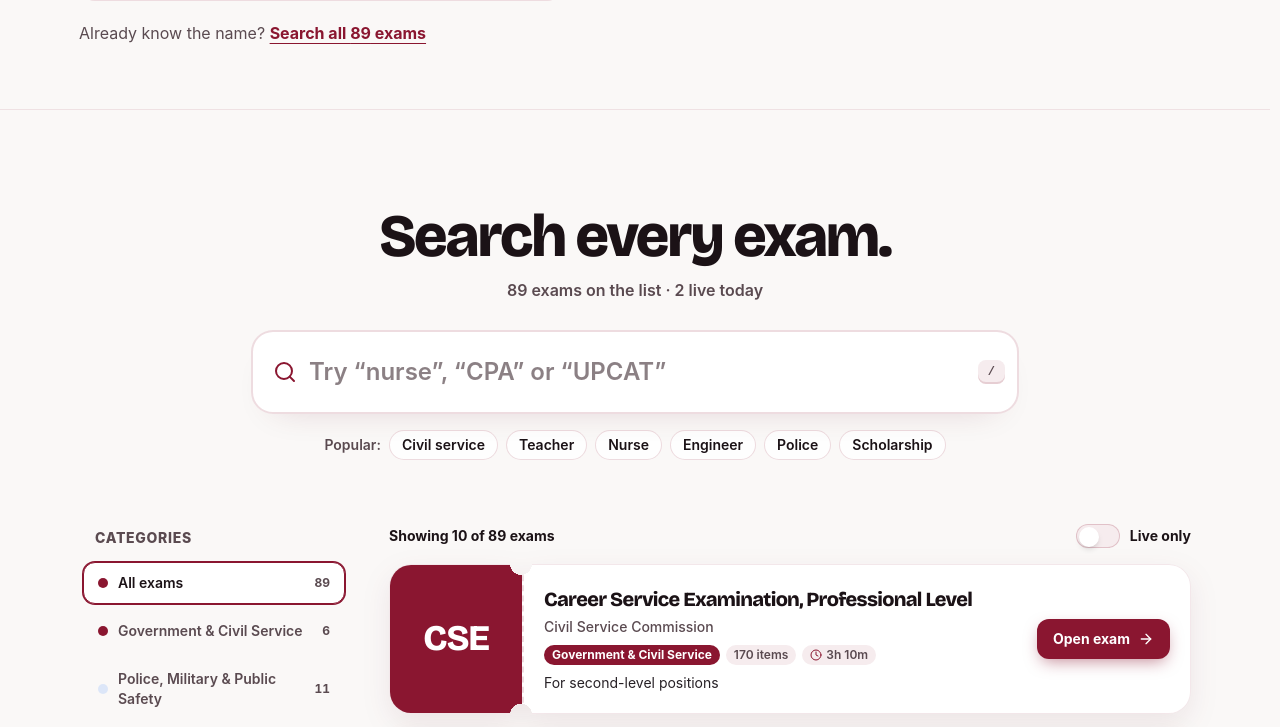
it: ExamsPageView Component (reviewtayo-exams-v2) › filters ticket cards by search query and marks matched keywords
(page scrolled)
In the field named "Search exams": (637, 372) [309, 344, 966, 400], type "nurse"
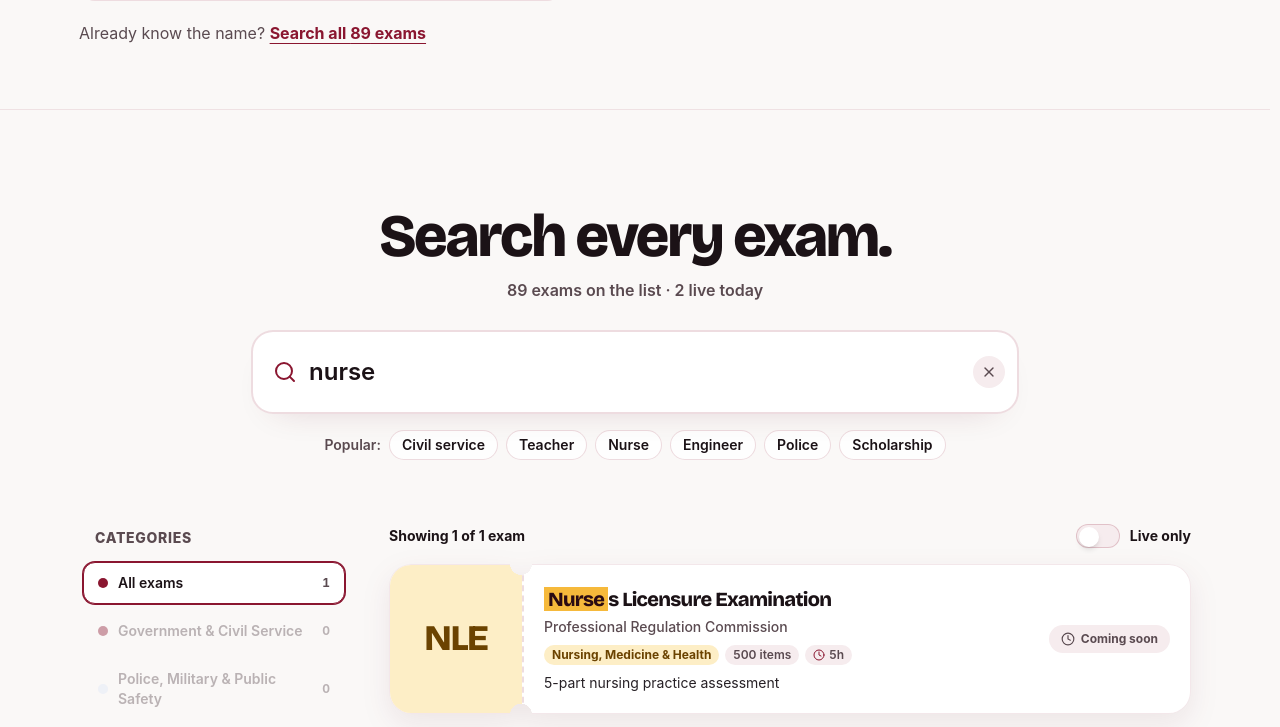
Expected: the heading "Nurses Licensure Examination" is shown, [544, 587, 831, 611]
Expected: the button named "Clear search" is shown
Click the button named "Clear search": (989, 372) [973, 356, 1005, 388]
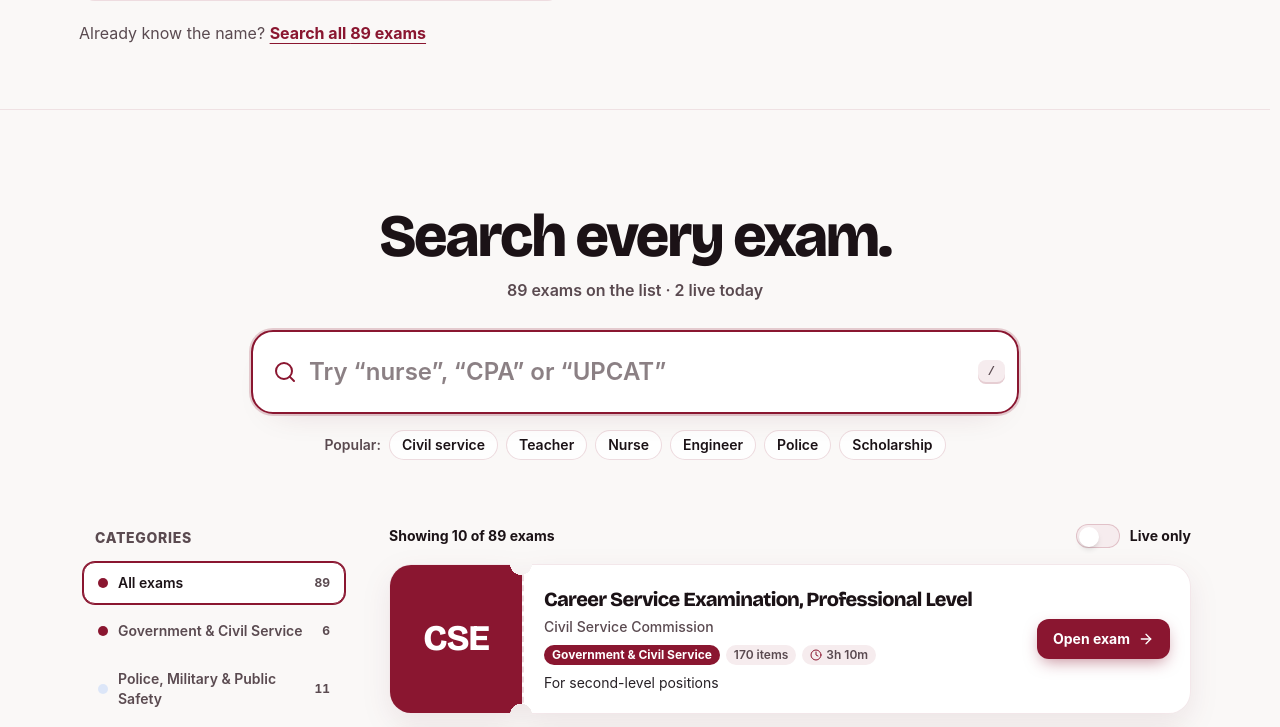
Expected: the field named "Search exams" is empty, [309, 344, 966, 400]
